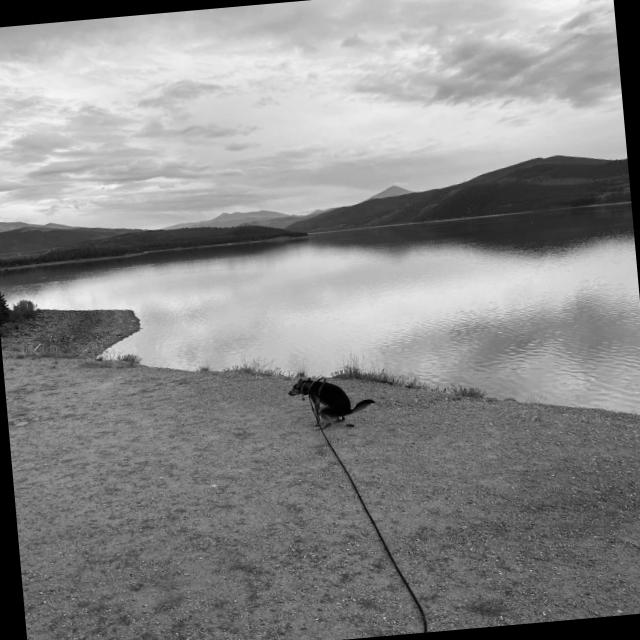squatting: (282, 359, 376, 436)
